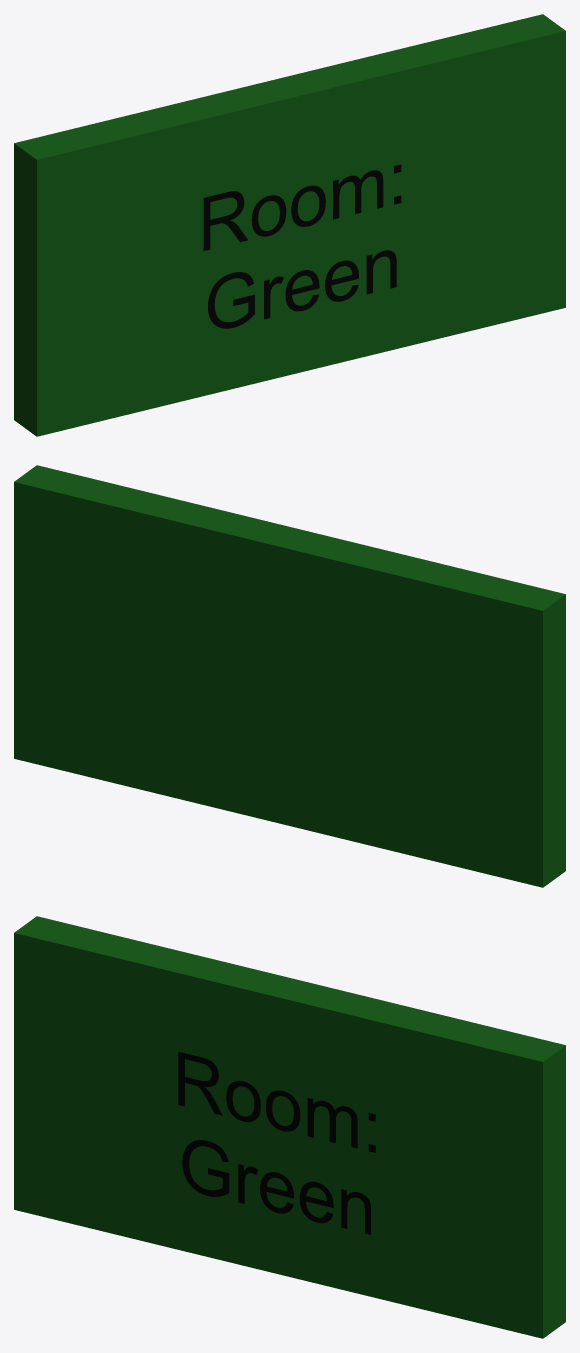
The model's file is ROOM PLAQUE - GREEN.fbx.
3 views of the same model, one above another, from view 1: azimuth 30°, elevation 25°; view 2: azimuth 150°, elevation 25°; view 3: azimuth 330°, elevation 25° (orthographic).
Visible parts, largest first — view 1: Box001, TextPlus001; view 2: Box001; view 3: Box001, TextPlus001.
Part boxes in pixels (bbox=[...]): Box001: bbox=[14, 14, 565, 436]; TextPlus001: bbox=[203, 164, 401, 328]; Box001: bbox=[14, 465, 565, 887]; Box001: bbox=[14, 916, 565, 1338]; TextPlus001: bbox=[178, 1051, 375, 1234].
Size of the model in its own units: 40 by 20 by 3.17.
